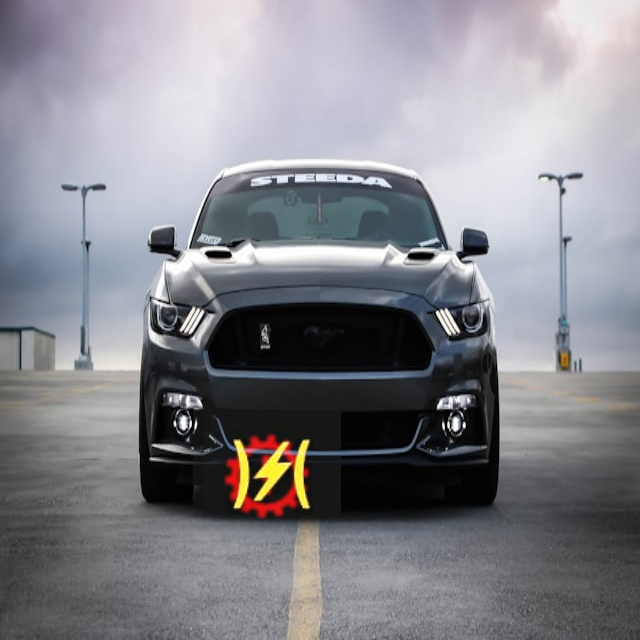symbol: (193, 403, 341, 551), (203, 406, 341, 544)
